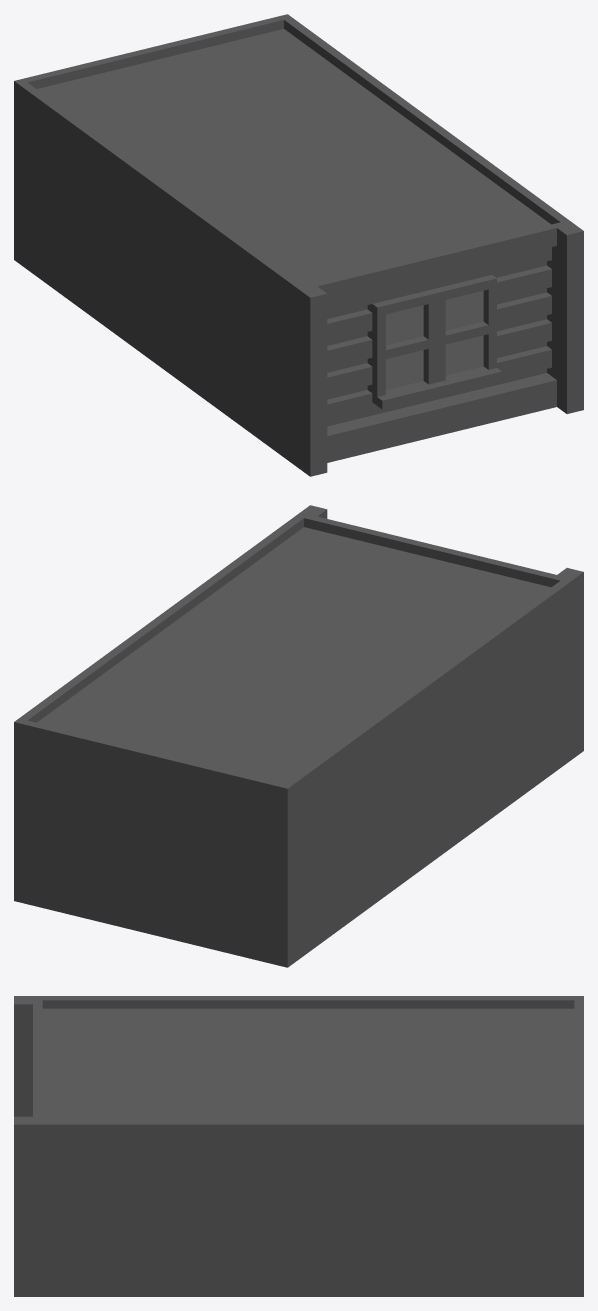
File: bld_story03b.obj
3 views of the same model, one above another, from view 1: azimuth 30°, elevation 25°; view 2: azimuth 150°, elevation 25°; view 3: azimuth 270°, elevation 25° (orthographic). The views are drawn at different scales.
Size of the model in its own units: 32 by 20 by 60.
